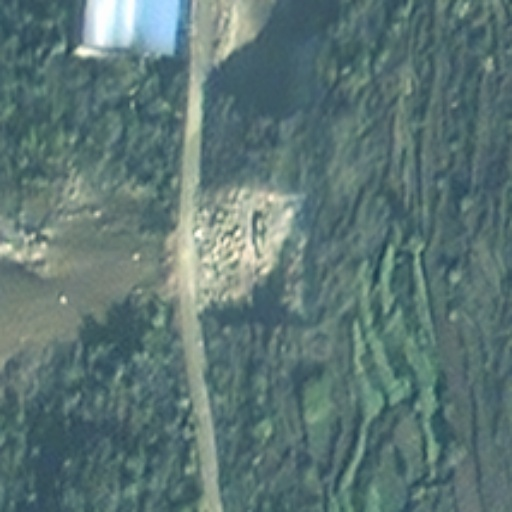landslide: (201, 182, 301, 309)
